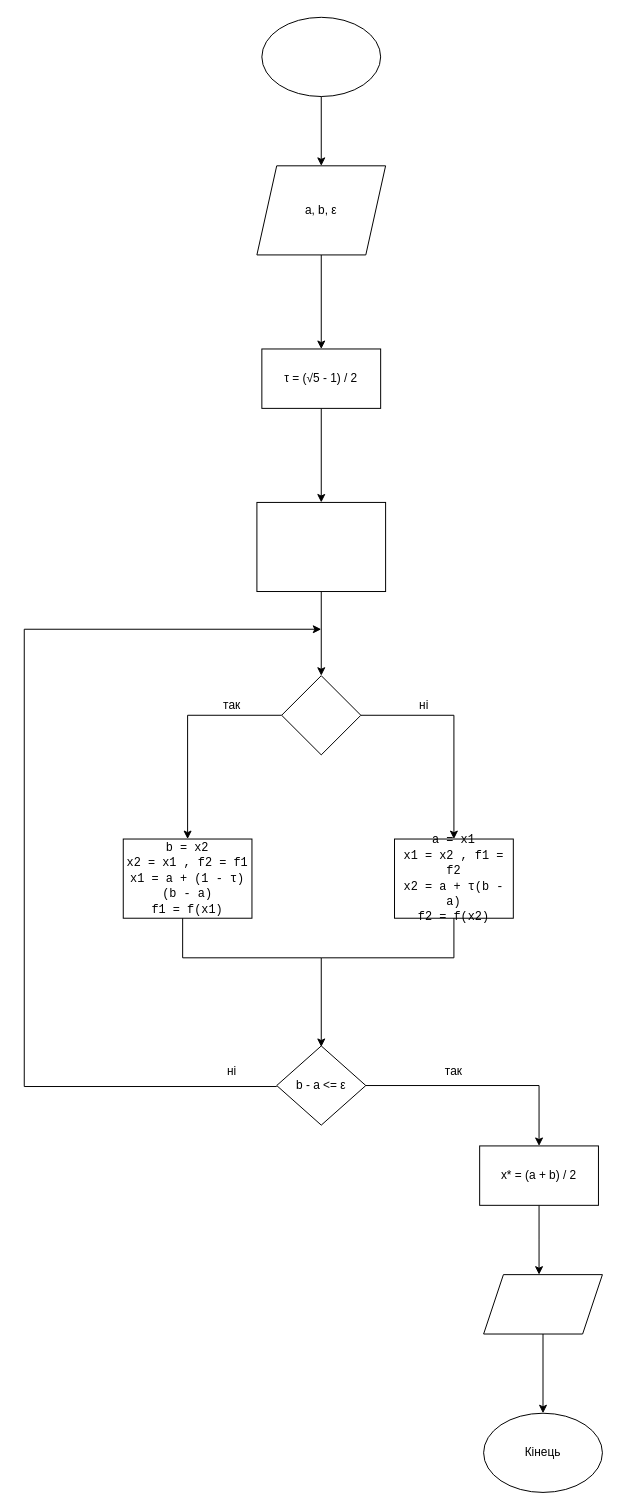
This 620x1510 diagram has some shape labels left out. The shapes that lost their labels are listed below. From the top down, each one's box as (x1, y1, x2, y2) in pixels, then its label:
(261, 16, 381, 97): Початок
(256, 501, 386, 592): x1 = a + (1 - τ) * (b - a) x2 = a + τ * (b - a) f1 = f(x1) f2 = f(x2)
(281, 675, 361, 755): f1 <= f2
(483, 1274, 602, 1334): Виведення x*, f(x*)
